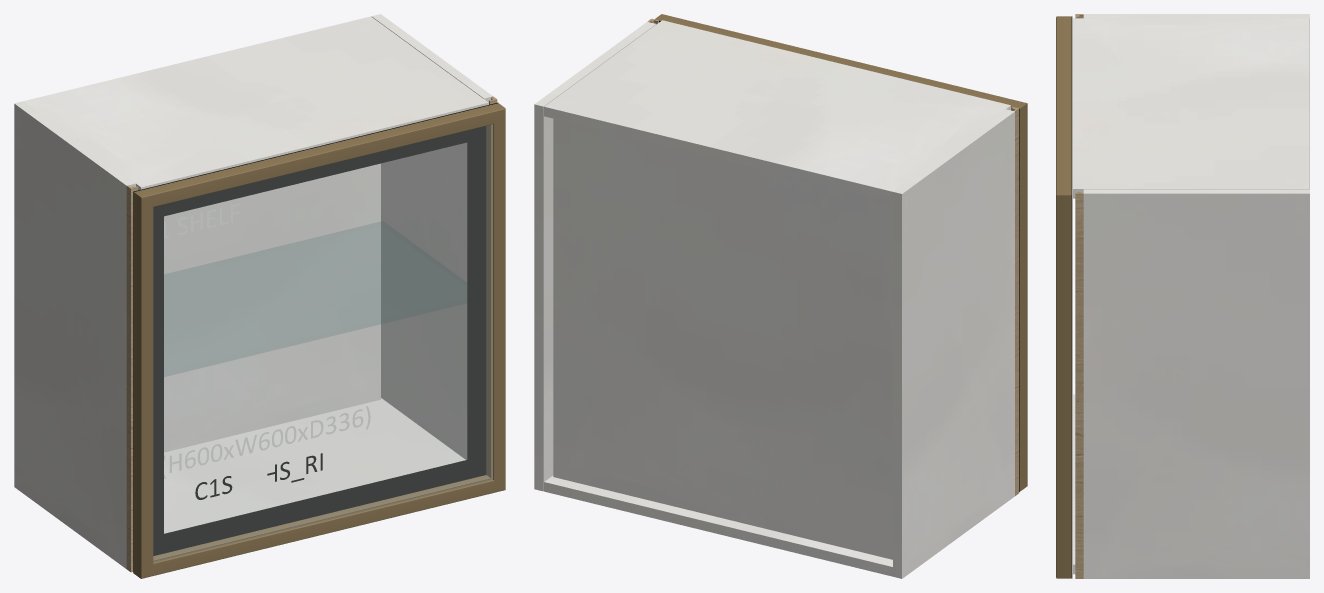
Rendered from LO-SH-NHX-GL-1SG-RHS-XXX-600-600-336-15.glb.
3 renders of one model, left to right at view 1: azimuth 30°, elevation 25°; view 2: azimuth 150°, elevation 25°; view 3: azimuth 270°, elevation 25°, orthographic.
Parts seen in each view (by area): view 1: Object_node_4, TP_node_2, TP_node_0, TP, Neon 22 Profile ALU PROF NEON 20 L21XH22.5MM 3MTR S2/405 SEC (×4), TP_node_1, Object_node_6, TP_node, Object_node_8, 2D text_node_0, 2D text_node; view 2: TP_node_2, TP_node_0, TP, TP_node_1, TP_node, Neon 22 Profile ALU PROF NEON 20 L21XH22.5MM 3MTR S2/405 SEC (×2), Object_node_8; view 3: TP_node_1, TP, Neon 22 Profile ALU PROF NEON 20 L21XH22.5MM 3MTR S2/405 SEC (×2), Object_node_14, TP_node_0, Object_node_6, TP_node.
Boxes of the visible parts, box(x1,y1,x2,y2) form: Object_node_4: box(153, 124, 492, 562); TP_node_2: box(164, 163, 380, 452); TP_node_0: box(14, 101, 135, 568); TP: box(23, 16, 488, 190); Neon 22 Profile ALU PROF NEON 20 L21XH22.5MM 3MTR S2/405 SEC (×4): box(134, 103, 505, 578); TP_node_1: box(371, 14, 492, 459); Object_node_6: box(133, 102, 497, 573); TP_node: box(164, 398, 465, 533); Object_node_8: box(126, 185, 138, 572); 2D text_node_0: box(164, 406, 370, 478); 2D text_node: box(195, 453, 322, 499); TP_node_2: box(553, 118, 892, 559); TP_node_0: box(893, 109, 1014, 578); TP: box(544, 20, 1010, 201); TP_node_1: box(534, 21, 656, 491); TP_node: box(544, 475, 892, 576); Neon 22 Profile ALU PROF NEON 20 L21XH22.5MM 3MTR S2/405 SEC (×2): box(655, 14, 1027, 491); Object_node_8: box(1011, 106, 1019, 495); TP_node_1: box(1083, 189, 1309, 578); TP: box(1073, 18, 1309, 198); Neon 22 Profile ALU PROF NEON 20 L21XH22.5MM 3MTR S2/405 SEC (×2): box(1056, 16, 1071, 578); Object_node_14: box(1075, 190, 1083, 578); TP_node_0: box(1083, 14, 1309, 188); Object_node_6: box(1071, 16, 1072, 578); TP_node: box(1073, 394, 1075, 574).
Size of what is drawn, in the model's own units: 0.6 by 0.6 by 0.358.
Materials: 8 (2 with a texture image).
